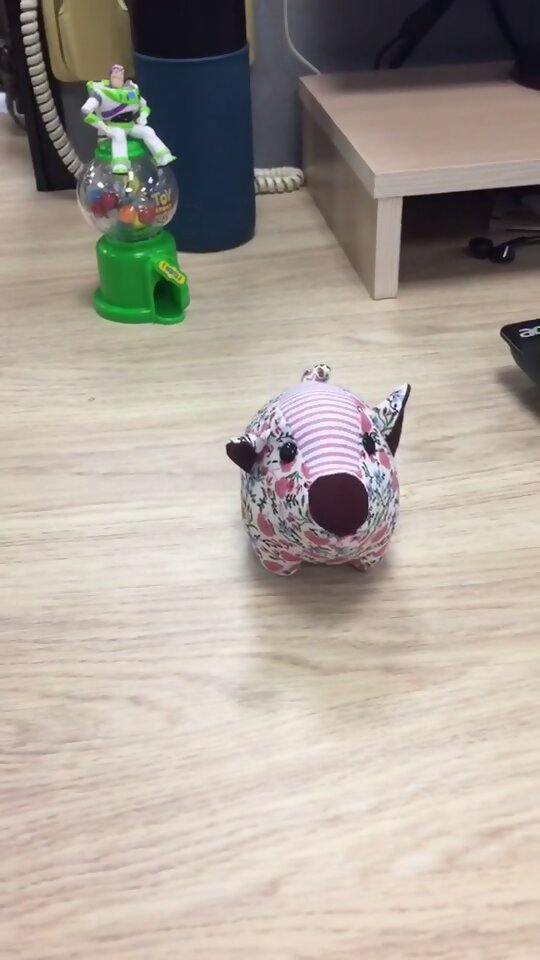pig: (223, 361, 413, 583)
